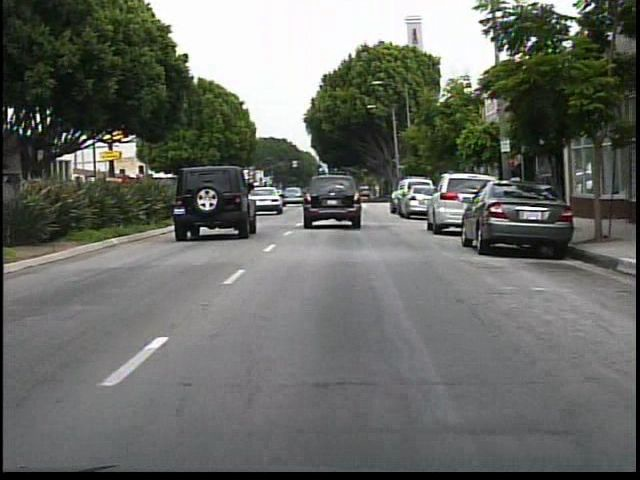person: (504, 165, 526, 220)
